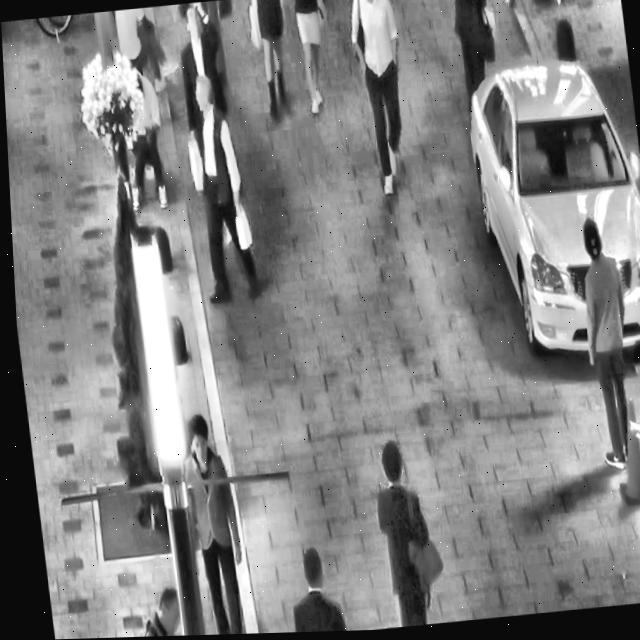light_vehicle: (452, 37, 640, 377)
